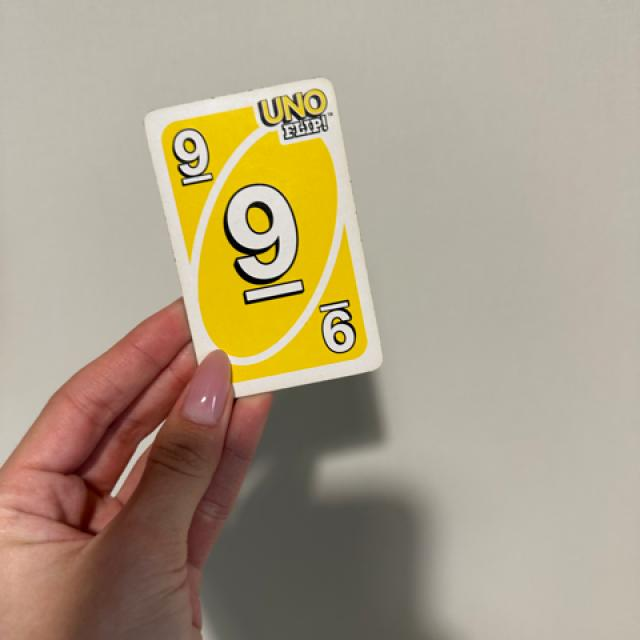lyellow-9: (161, 114, 226, 190)
